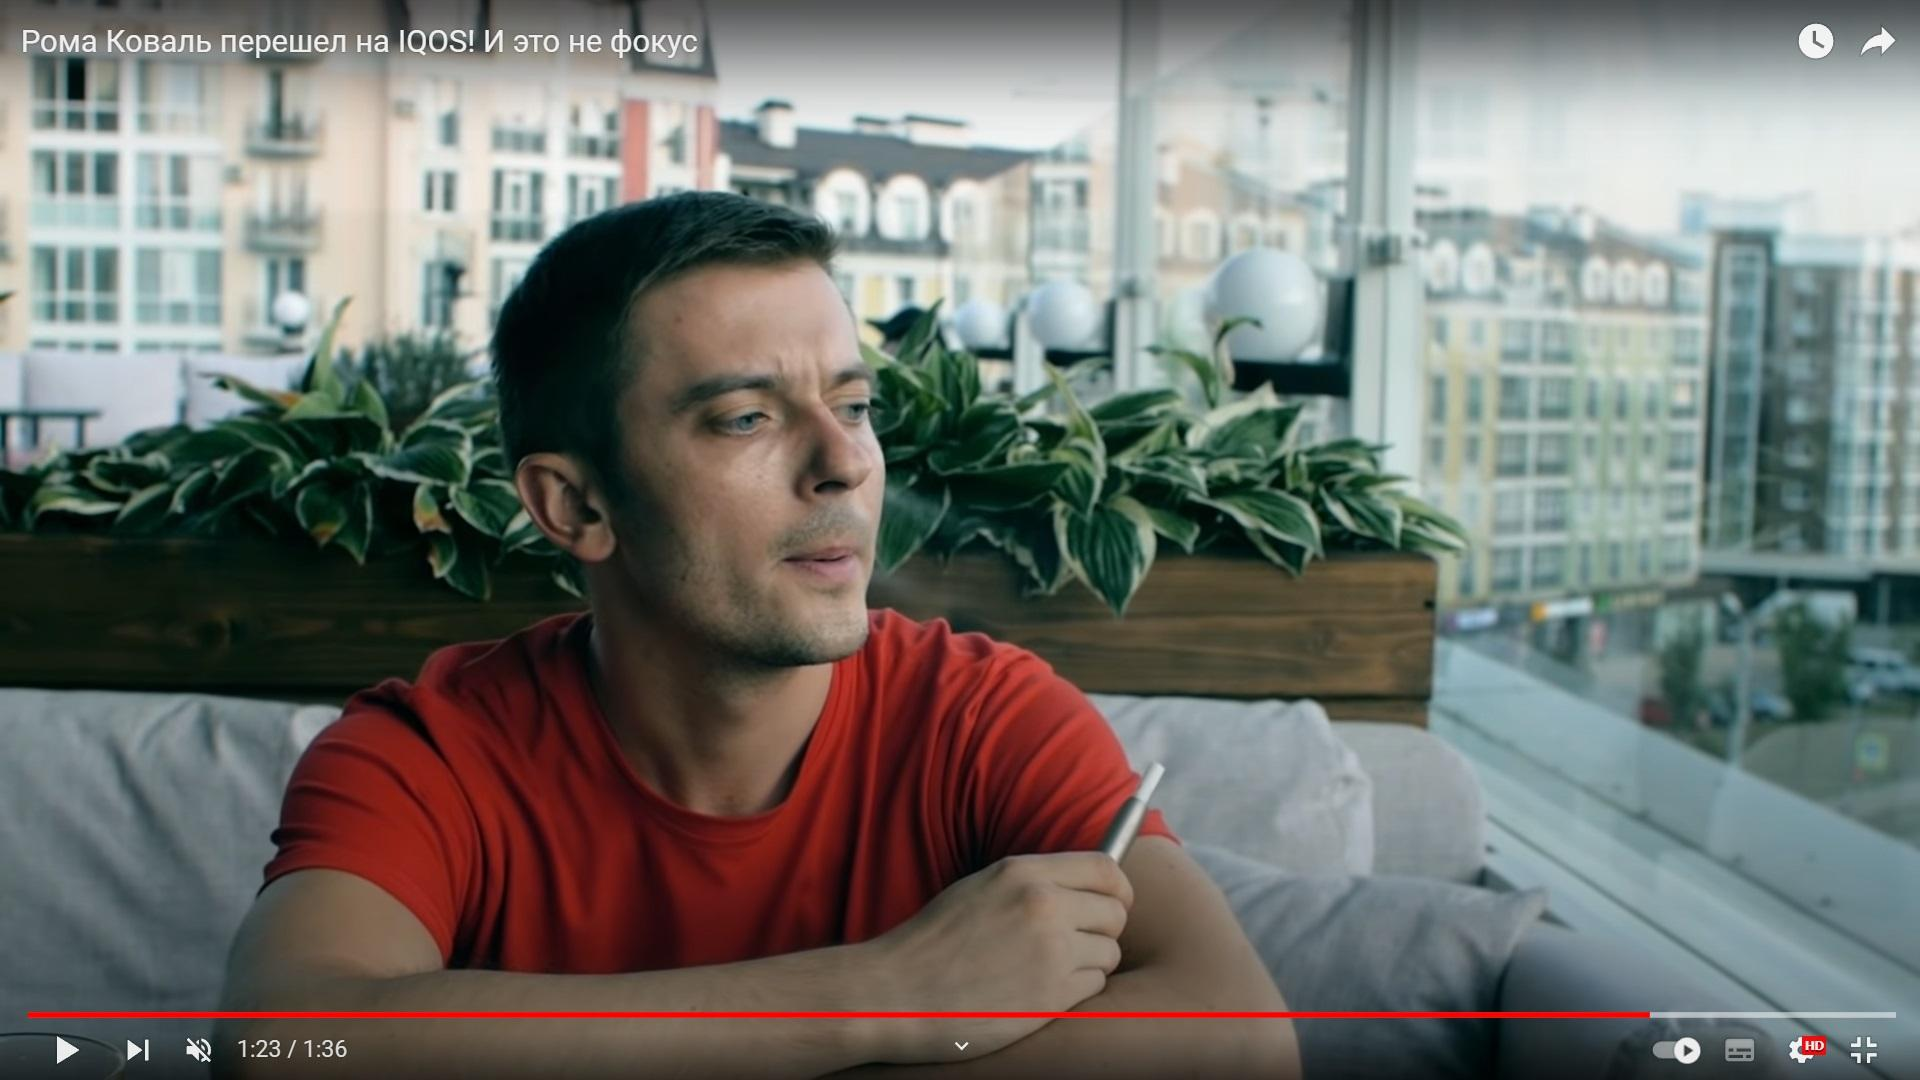iqos: (1100, 764, 1167, 862)
